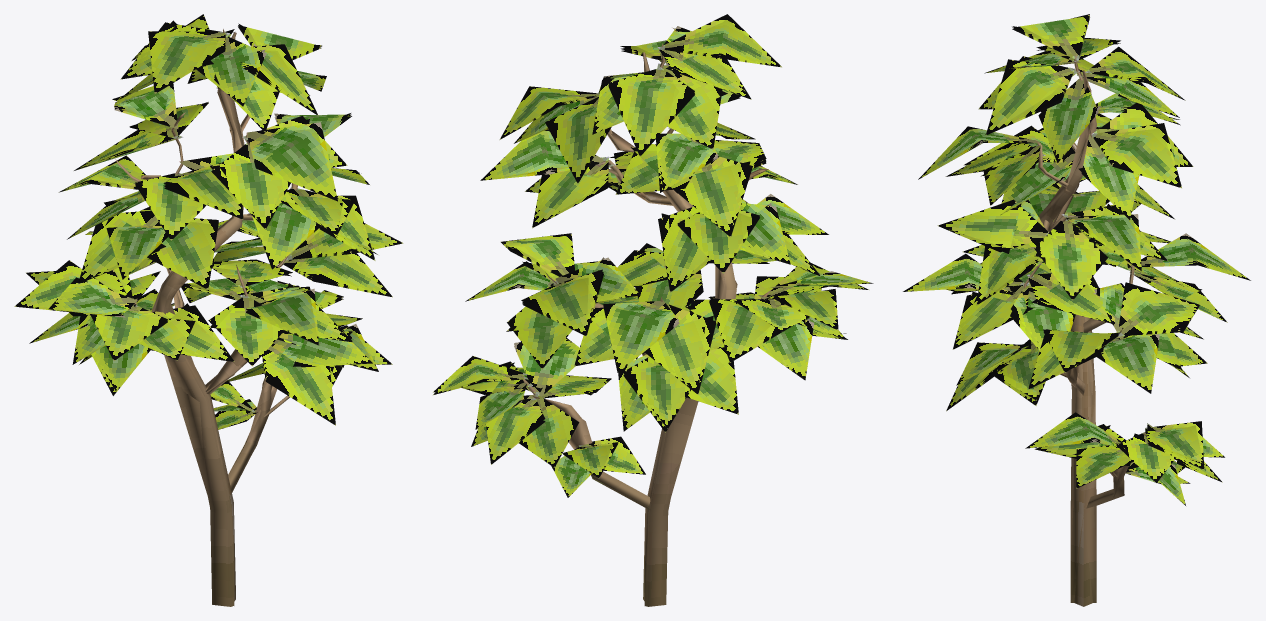
Rendered from plants_un_plant02.gltf.
3 renders of one model, left to right at view 1: azimuth 30°, elevation 25°; view 2: azimuth 150°, elevation 25°; view 3: azimuth 270°, elevation 25°, orthographic. The views are drawn at different scales.
Parts seen in each view (by area): view 1: um_plants_un_plant02_model_lod2Shape:a_t01_i02_plant02_leaf0, um_plants_un_plant02_model_lod0Shape:a_t01_i02_plant02_leaf0, um_plants_un_plant02_model_lod1Shape:a_t01_i02_plant02_leaf0, um_plants_un_plant02_model_lod0Shape:a_t01_i02_plant02_base0, um_plants_un_plant02_model_lod2Shape:a_t01_i02_plant02_base0, um_plants_un_plant02_model_lod1Shape:a_t01_i02_plant02_base0; view 2: um_plants_un_plant02_model_lod2Shape:a_t01_i02_plant02_leaf0, um_plants_un_plant02_model_lod0Shape:a_t01_i02_plant02_leaf0, um_plants_un_plant02_model_lod1Shape:a_t01_i02_plant02_leaf0, um_plants_un_plant02_model_lod0Shape:a_t01_i02_plant02_base0, um_plants_un_plant02_model_lod2Shape:a_t01_i02_plant02_base0, um_plants_un_plant02_model_lod1Shape:a_t01_i02_plant02_base0; view 3: um_plants_un_plant02_model_lod2Shape:a_t01_i02_plant02_leaf0, um_plants_un_plant02_model_lod0Shape:a_t01_i02_plant02_leaf0, um_plants_un_plant02_model_lod1Shape:a_t01_i02_plant02_leaf0, um_plants_un_plant02_model_lod0Shape:a_t01_i02_plant02_base0, um_plants_un_plant02_model_lod1Shape:a_t01_i02_plant02_base0, um_plants_un_plant02_model_lod2Shape:a_t01_i02_plant02_base0.
Part boxes in pixels (box(x1,y1,x2,y2)): um_plants_un_plant02_model_lod2Shape:a_t01_i02_plant02_leaf0: box(14, 20, 402, 425); um_plants_un_plant02_model_lod0Shape:a_t01_i02_plant02_leaf0: box(16, 14, 402, 429); um_plants_un_plant02_model_lod1Shape:a_t01_i02_plant02_leaf0: box(19, 26, 399, 422); um_plants_un_plant02_model_lod0Shape:a_t01_i02_plant02_base0: box(115, 29, 297, 606); um_plants_un_plant02_model_lod2Shape:a_t01_i02_plant02_base0: box(164, 38, 277, 606); um_plants_un_plant02_model_lod1Shape:a_t01_i02_plant02_base0: box(141, 38, 291, 605); um_plants_un_plant02_model_lod2Shape:a_t01_i02_plant02_leaf0: box(433, 18, 873, 431); um_plants_un_plant02_model_lod0Shape:a_t01_i02_plant02_leaf0: box(433, 14, 870, 497); um_plants_un_plant02_model_lod1Shape:a_t01_i02_plant02_leaf0: box(433, 48, 866, 478); um_plants_un_plant02_model_lod0Shape:a_t01_i02_plant02_base0: box(521, 43, 771, 606); um_plants_un_plant02_model_lod2Shape:a_t01_i02_plant02_base0: box(533, 64, 736, 606); um_plants_un_plant02_model_lod1Shape:a_t01_i02_plant02_base0: box(533, 67, 759, 606); um_plants_un_plant02_model_lod2Shape:a_t01_i02_plant02_leaf0: box(903, 16, 1250, 482); um_plants_un_plant02_model_lod0Shape:a_t01_i02_plant02_leaf0: box(905, 14, 1246, 505); um_plants_un_plant02_model_lod1Shape:a_t01_i02_plant02_leaf0: box(905, 17, 1247, 481); um_plants_un_plant02_model_lod0Shape:a_t01_i02_plant02_base0: box(1024, 54, 1146, 606); um_plants_un_plant02_model_lod1Shape:a_t01_i02_plant02_base0: box(1039, 84, 1124, 602); um_plants_un_plant02_model_lod2Shape:a_t01_i02_plant02_base0: box(1048, 76, 1128, 557).
Bounding box in the file's own units: 1.07 × 1.6 × 0.9045.
2 materials, 2 textured.
